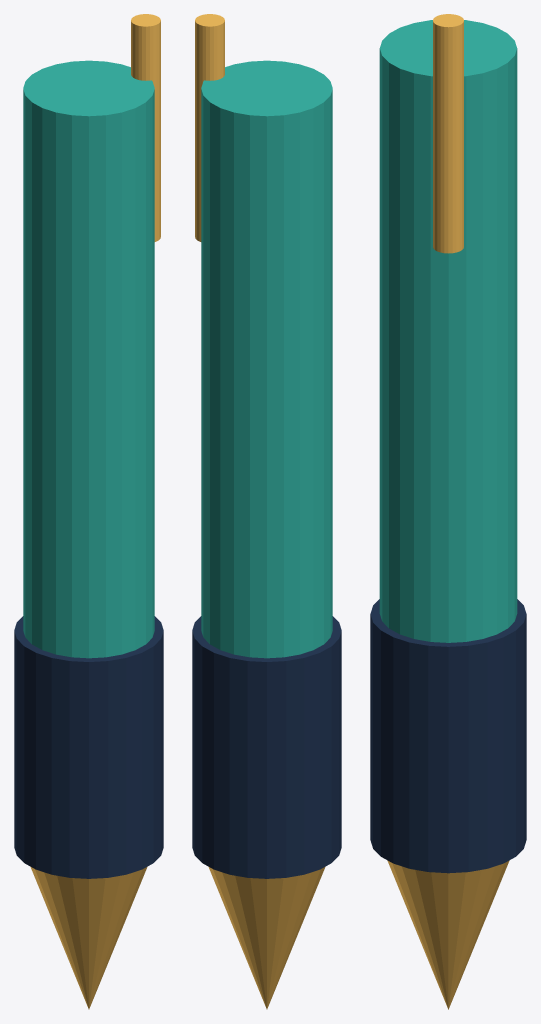
Rendered from EDU002.glb.
3 renders of one model, left to right at view 1: azimuth 30°, elevation 25°; view 2: azimuth 150°, elevation 25°; view 3: azimuth 270°, elevation 25°, orthographic. The views are drawn at different scales.
Visible parts, largest first — view 1: Pen_barrel, Grip, Nib, Clip; view 2: Pen_barrel, Grip, Nib, Clip; view 3: Pen_barrel, Grip, Nib, Clip.
Part boxes in pixels (left/top/right/bottom): Pen_barrel: left=23, top=60, right=154, bottom=658; Grip: left=14, top=616, right=163, bottom=878; Nib: left=30, top=866, right=147, bottom=1009; Clip: left=131, top=14, right=160, bottom=241; Pen_barrel: left=201, top=60, right=332, bottom=658; Grip: left=192, top=616, right=341, bottom=878; Nib: left=208, top=866, right=325, bottom=1009; Clip: left=195, top=14, right=224, bottom=241; Pen_barrel: left=379, top=20, right=517, bottom=642; Grip: left=370, top=599, right=526, bottom=873; Nib: left=387, top=860, right=509, bottom=1009; Clip: left=433, top=14, right=463, bottom=253.
Bounding box in the file's own units: 0.26 × 1.8 × 0.25.
